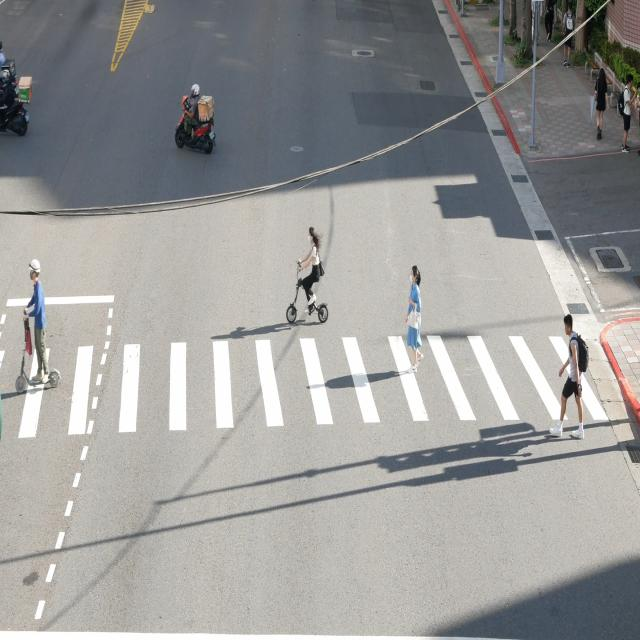pedestrian: (24, 259, 49, 383), (558, 314, 588, 411), (300, 228, 324, 314), (406, 265, 422, 370), (572, 406, 583, 438)
